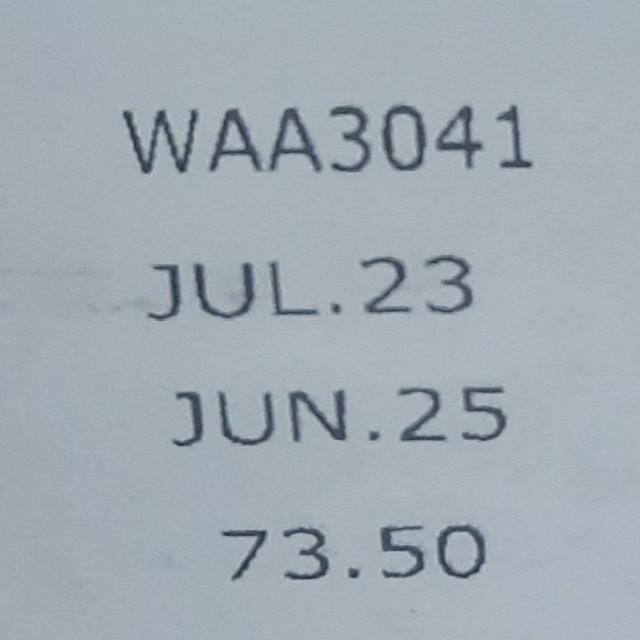sentence: (4, 0, 637, 639), (122, 104, 533, 174), (143, 256, 476, 321), (172, 385, 508, 447), (222, 524, 486, 580)
